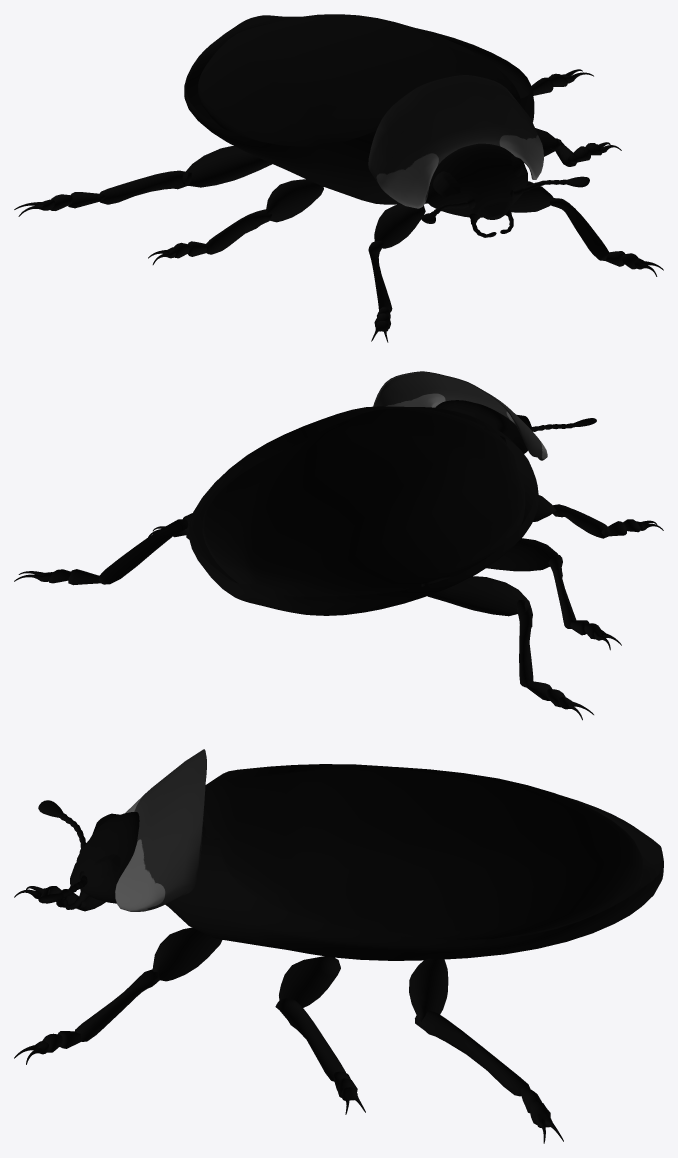
File: ladybug.obj
3 renders of one model, top to bottom at view 1: azimuth 30°, elevation 25°; view 2: azimuth 150°, elevation 25°; view 3: azimuth 270°, elevation 25°, orthographic. The views are drawn at different scales.
Visible parts, largest first — view 1: obj11, obj7, obj10, obj9, obj3, obj1, obj8, obj2; view 2: obj11, obj10, obj7, obj1, obj9, obj3; view 3: obj11, obj7, obj9, obj10, obj1, obj3, obj8, obj2.
Boxes of the visible parts, <box> form: obj11: <box>184,14,534,204</box>; obj7: <box>368,75,543,208</box>; obj10: <box>14,69,593,216</box>; obj9: <box>368,181,663,342</box>; obj3: <box>426,143,527,219</box>; obj1: <box>148,128,621,264</box>; obj8: <box>421,176,589,223</box>; obj2: <box>433,155,526,197</box>; obj11: <box>188,406,538,615</box>; obj10: <box>14,513,593,720</box>; obj7: <box>373,371,547,460</box>; obj1: <box>148,526,621,650</box>; obj9: <box>533,495,663,538</box>; obj3: <box>435,400,527,453</box>; obj11: <box>165,764,663,960</box>; obj7: <box>115,749,206,911</box>; obj9: <box>14,886,222,1064</box>; obj10: <box>409,958,563,1143</box>; obj1: <box>275,956,365,1114</box>; obj3: <box>70,812,139,903</box>; obj8: <box>38,800,87,903</box>; obj2: <box>92,813,120,878</box>.
Bounding box in the file's own units: 0.00605 × 0.00175 × 0.00483.
5 materials, 1 textured.
